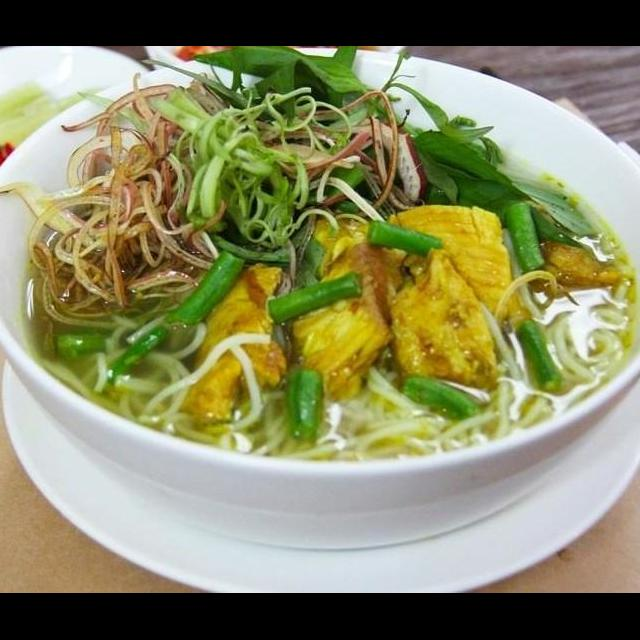bun: (34, 306, 285, 462), (255, 382, 563, 470), (511, 272, 640, 432)
bun ca: (0, 86, 640, 553)
ca: (284, 222, 403, 404), (379, 202, 533, 338), (182, 252, 296, 426), (385, 244, 509, 390)
rau ram: (369, 75, 599, 254), (187, 48, 386, 134)
